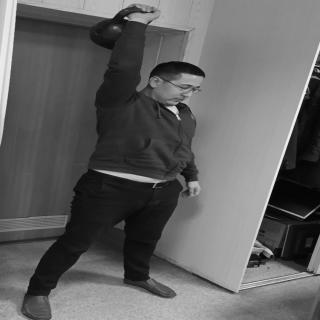girya: (93, 8, 160, 51)
